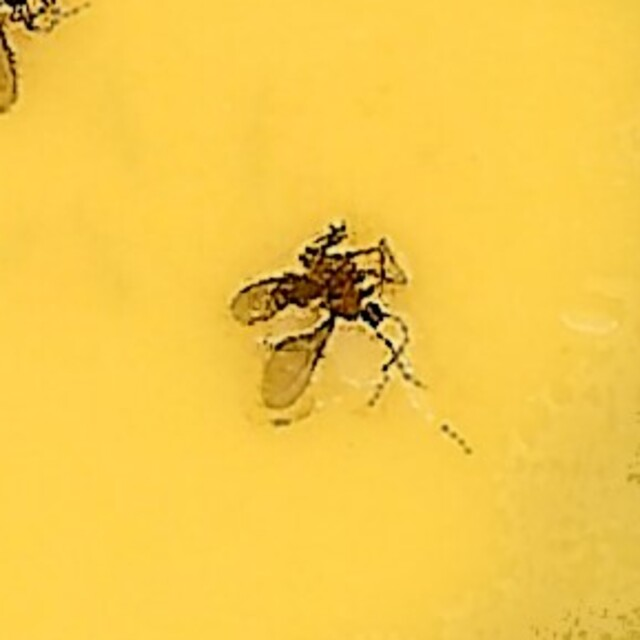Hymenoptera: (221, 217, 419, 423)
